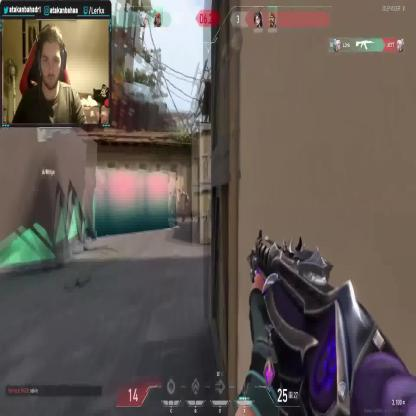enemy: (180, 189, 192, 221)
enemy_head: (182, 187, 188, 195)
